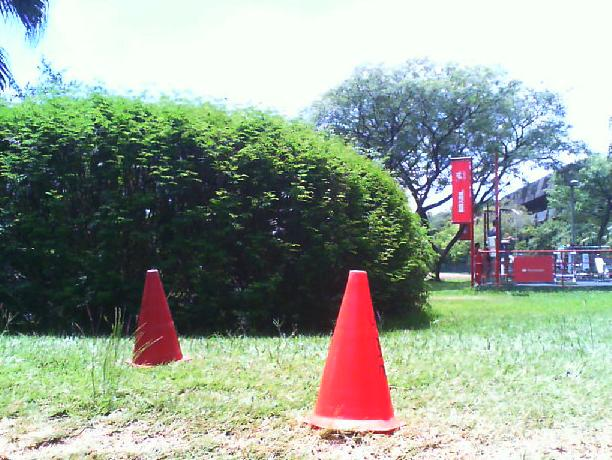0 cone: (304, 270, 407, 432), (126, 270, 192, 368)
